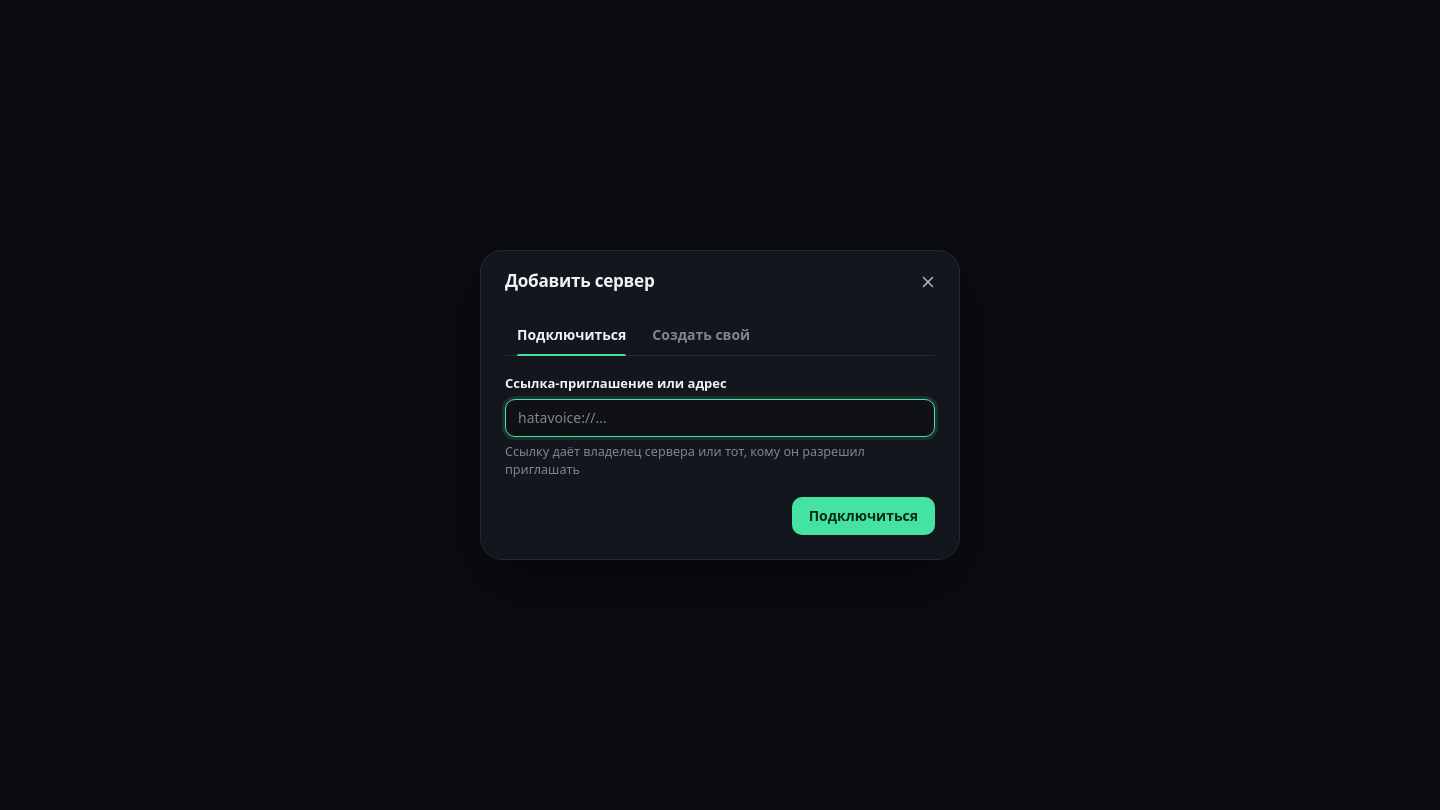
Test: joining › tells a stranger to ask for an invite
Type "5.6.7.8:7350" into the field labelled "Ссылка-приглашение или адрес".
click(720, 418); type("5.6.7.8:7350")  # box [505,399,935,437]
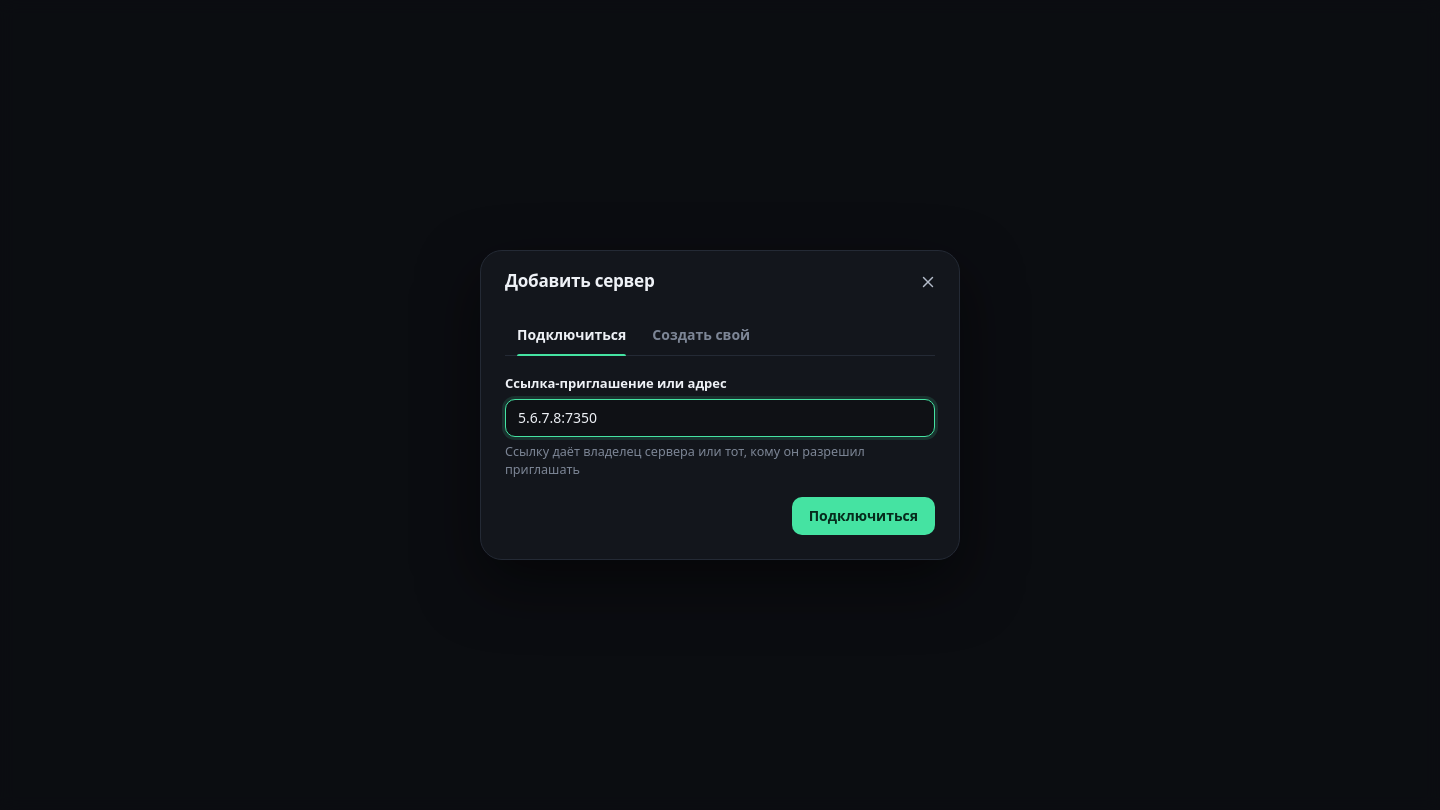
Click the button "Подключиться".
click(863, 516)  # box [792,497,935,535]
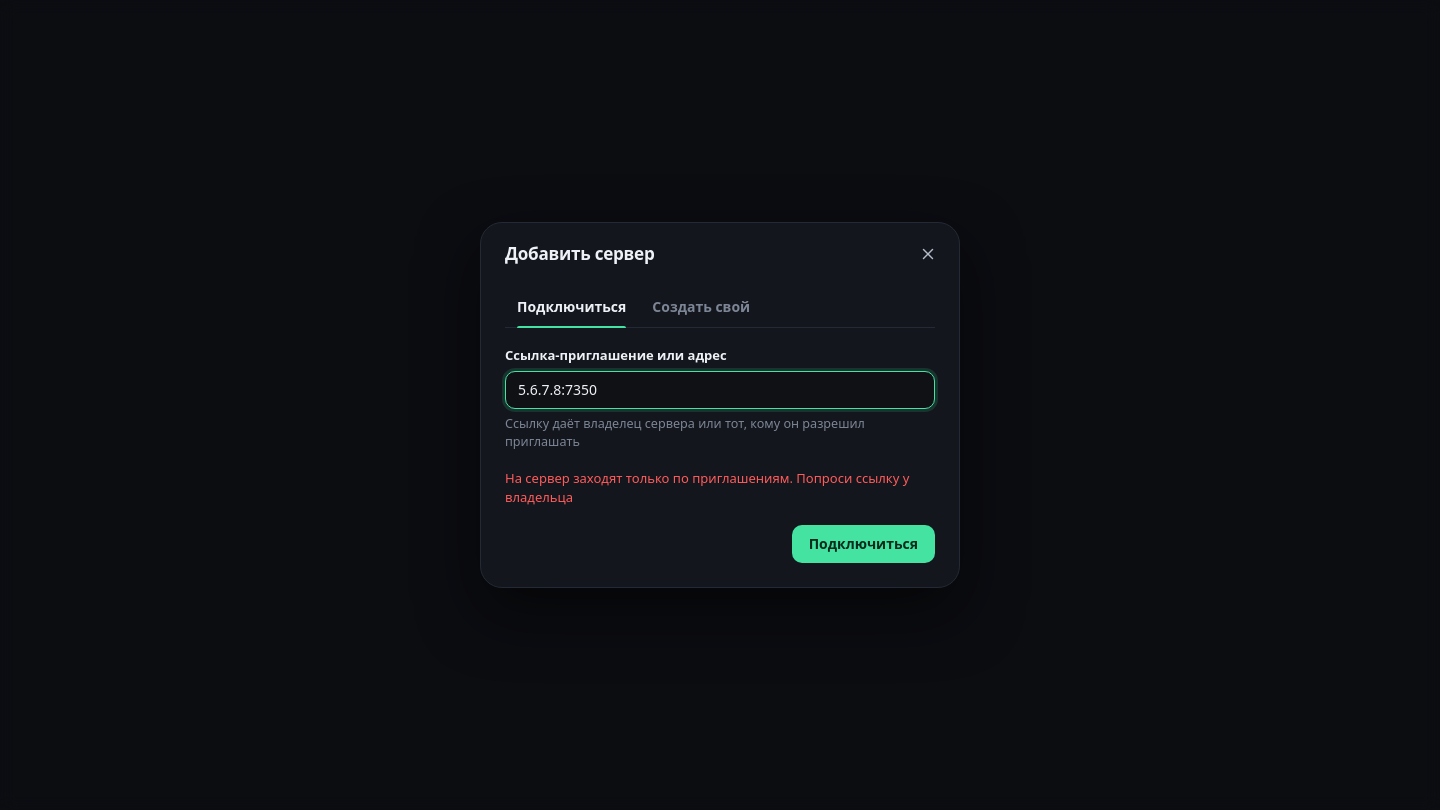
Expected: the text "На сервер заходят только по приглашениям. Попроси ссылку у владельца" is shown, [505,469,935,507]
